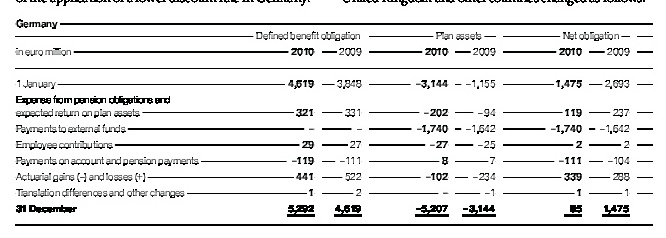table: (0, 0, 666, 238)
